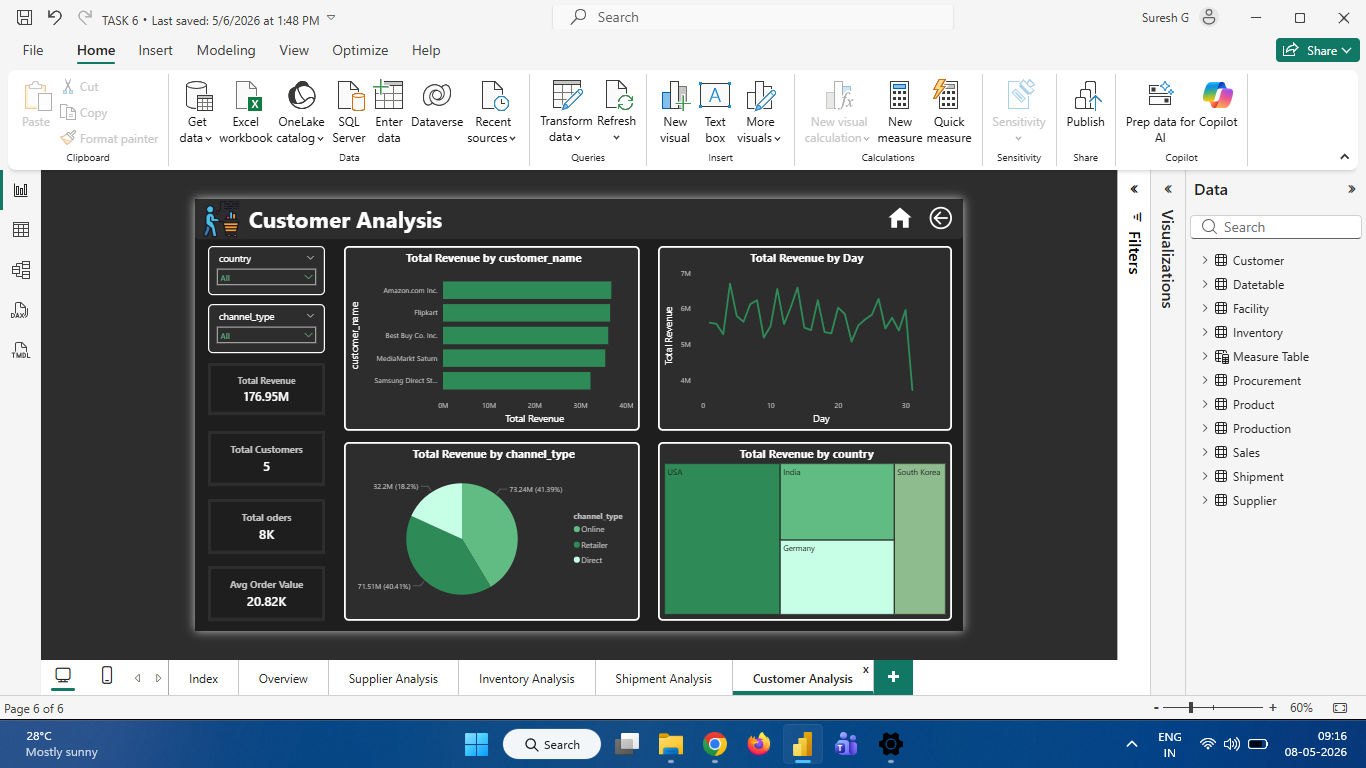

This screenshot's page, from the dashboard's own definition file:
{"tool":"powerbi","page":{"name":"Customer Analysis","canvas":[1280,720],"ordinal":5},"visuals":[{"type":"textbox","box":[0,0,1280,66.7],"z":0},{"type":"cardVisual","fields":{"Data":["Measure Table.Total Customers"]},"box":[21.7,386.7,195,91.7],"z":1},{"type":"cardVisual","fields":{"Data":["Measure Table.Total oders"]},"box":[21.7,500,195,91.7],"z":2},{"type":"cardVisual","fields":{"Data":["Measure Table.Avg Order Value"]},"box":[21.7,611.7,195,91.7],"z":3},{"type":"clusteredBarChart","fields":{"Category":["Customer.customer_name"],"Y":["Measure Table.Total Revenue"]},"box":[248.3,78.3,493.3,308.3],"z":4},{"type":"pieChart","fields":{"Category":["Customer.channel_type"],"Y":["Measure Table.Total Revenue"]},"box":[248.3,405,493.3,298.3],"z":5},{"type":"lineChart","fields":{"Y":["Measure Table.Total Revenue"],"Category":["Datetable.date.Variation.Date Hierarchy.Year","Datetable.date.Variation.Date Hierarchy.Quarter","Datetable.date.Variation.Date Hierarchy.Month","Datetable.date.Variation.Date Hierarchy.Day"]},"box":[771.7,78.3,490,308.3],"z":6},{"type":"treemap","fields":{"Values":["Measure Table.Total Revenue"],"Group":["Customer.country"]},"box":[771.7,405,490,298.3],"z":7},{"type":"slicer","fields":{"Values":["Customer.country"]},"box":[21.7,78.3,195,81.7],"z":8},{"type":"slicer","fields":{"Values":["Customer.channel_type"]},"box":[21.7,175,195,81.7],"z":9},{"type":"cardVisual","fields":{"Data":["Measure Table.Total Revenue"]},"box":[21.7,273.3,195,86.7],"z":10},{"type":"image","box":[0,0,86.7,66.7],"z":11},{"type":"actionButton","box":[1153.3,3.3,76.7,60],"z":12},{"type":"image","box":[1063.3,3.3,90,60],"z":13}]}

Visuals, with their boxes on the page's 1280x720 design canvas (x1, y1, x2, y2). These are canvas units, not pixel positions in the 1366x768 screenshot, which may show the page scaled, cropped or inside an application window:
textbox: BBox(0, 0, 1280, 67)
cardVisual - Measure Table.Total Customers: BBox(22, 387, 217, 478)
cardVisual - Measure Table.Total oders: BBox(22, 500, 217, 592)
cardVisual - Measure Table.Avg Order Value: BBox(22, 612, 217, 703)
clusteredBarChart - Customer.customer_name x Measure Table.Total Revenue: BBox(248, 78, 742, 387)
pieChart - Customer.channel_type x Measure Table.Total Revenue: BBox(248, 405, 742, 703)
lineChart - Measure Table.Total Revenue x Datetable.date.Variation.Date Hierarchy.Year: BBox(772, 78, 1262, 387)
treemap - Measure Table.Total Revenue x Customer.country: BBox(772, 405, 1262, 703)
slicer - Customer.country: BBox(22, 78, 217, 160)
slicer - Customer.channel_type: BBox(22, 175, 217, 257)
cardVisual - Measure Table.Total Revenue: BBox(22, 273, 217, 360)
image: BBox(0, 0, 87, 67)
actionButton: BBox(1153, 3, 1230, 63)
image: BBox(1063, 3, 1153, 63)
